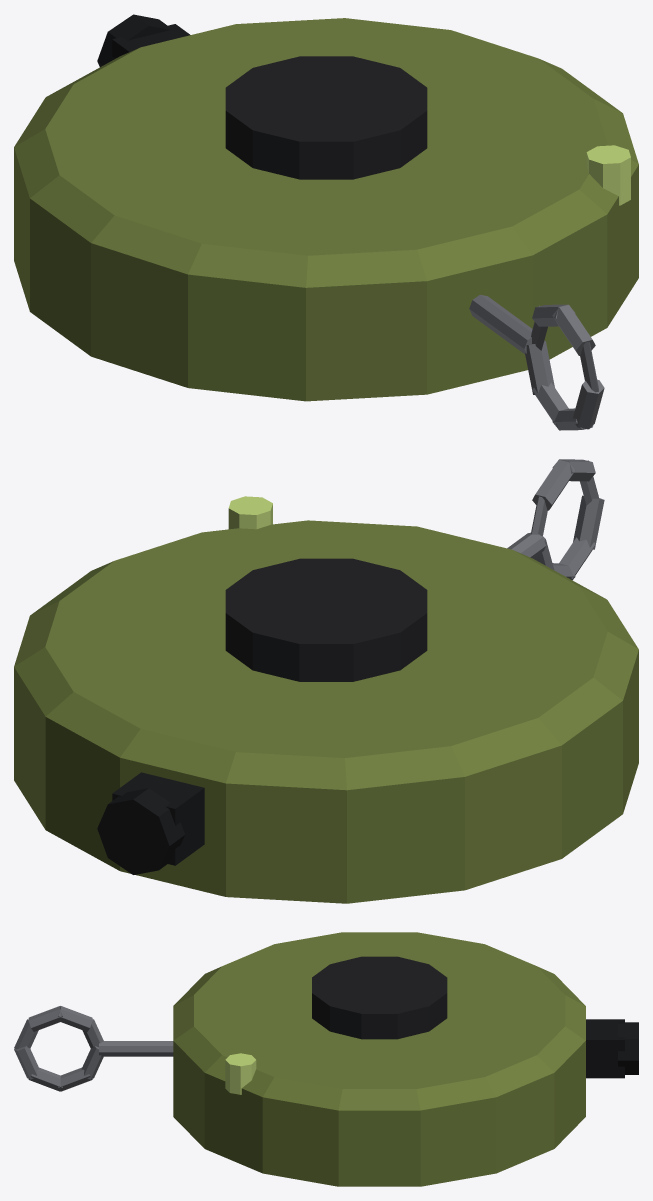
Rendered from Landmine.fbx.
3 views of the same model, one above another, from view 1: azimuth 30°, elevation 25°; view 2: azimuth 150°, elevation 25°; view 3: azimuth 270°, elevation 25° (orthographic). The views are drawn at different scales.
Parts seen in each view (by area): view 1: Body, Plate, SafetyPin, ArmSwitch, Indicator; view 2: Body, Plate, ArmSwitch, SafetyPin, Indicator; view 3: Body, Plate, SafetyPin, ArmSwitch, Indicator.
Boxes of the visible parts, box(x1,y1,x2,y2) form: Body: box(14, 18, 638, 401); Plate: box(225, 56, 427, 179); SafetyPin: box(469, 294, 604, 430); ArmSwitch: box(97, 14, 190, 66); Indicator: box(586, 145, 630, 205); Body: box(14, 520, 638, 903); Plate: box(225, 558, 427, 681); ArmSwitch: box(97, 772, 204, 874); SafetyPin: box(507, 459, 604, 580); Indicator: box(228, 496, 272, 529); Body: box(173, 932, 585, 1186); Plate: box(312, 956, 447, 1039); SafetyPin: box(14, 1006, 173, 1091); ArmSwitch: box(586, 1019, 638, 1078); Indicator: box(225, 1053, 256, 1094).
Bounding box in the file's own units: 58.85 × 18 × 89.15.
